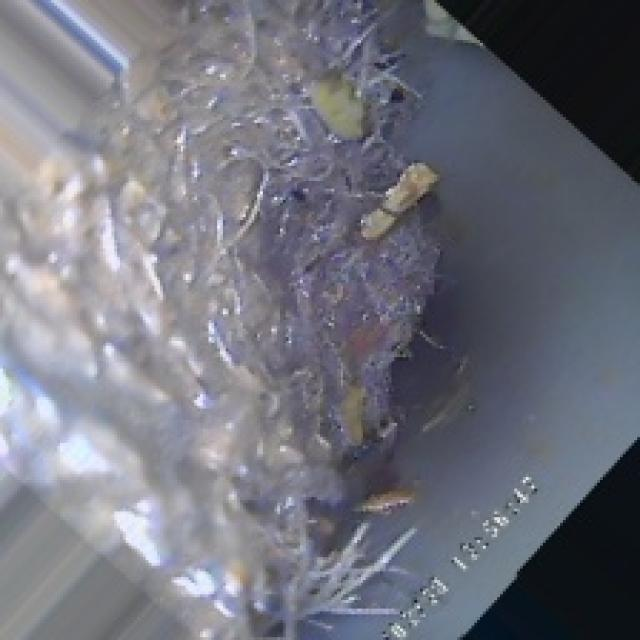sluge accumulation: (54, 28, 426, 583)
